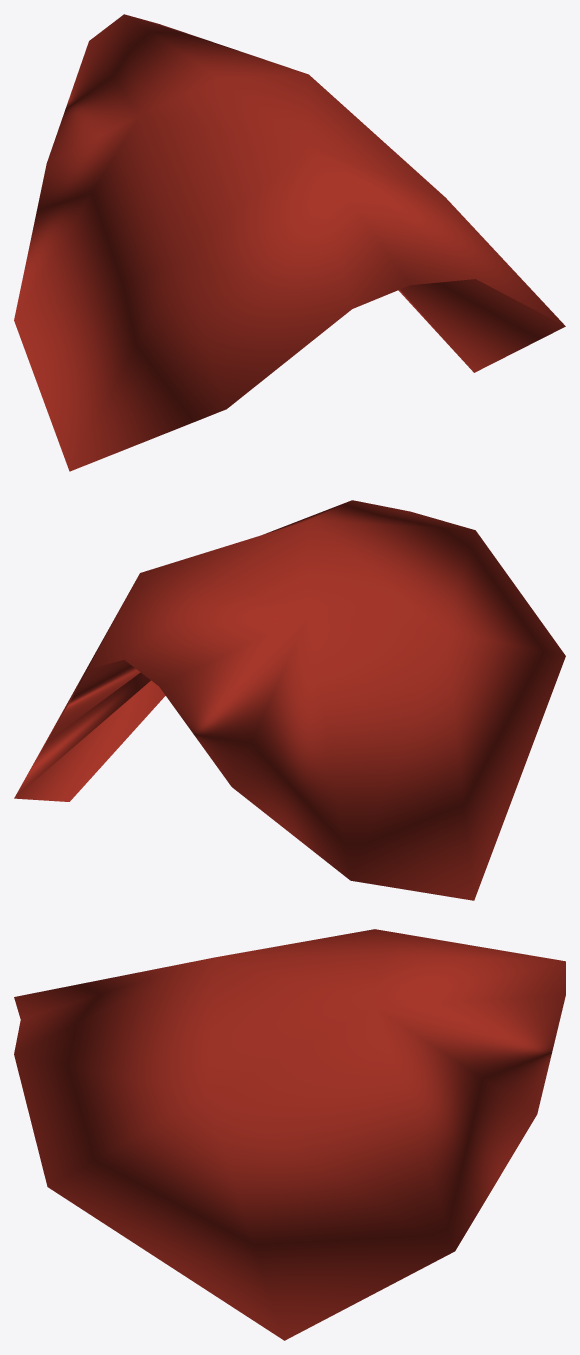
Rendered from ArarMask_Ground.fbx.
3 renders of one model, top to bottom at view 1: azimuth 30°, elevation 25°; view 2: azimuth 150°, elevation 25°; view 3: azimuth 270°, elevation 25°, orthographic. The views are drawn at different scales.
Visible parts, largest first — view 1: Headpiece.005; view 2: Headpiece.005; view 3: Headpiece.005.
Part boxes in pixels (<box>): Headpiece.005: <box>14,14,565,471</box>; Headpiece.005: <box>14,500,565,900</box>; Headpiece.005: <box>14,929,565,1340</box>.
Size of the model in its own units: 0.1503 by 0.0874 by 0.1211.
